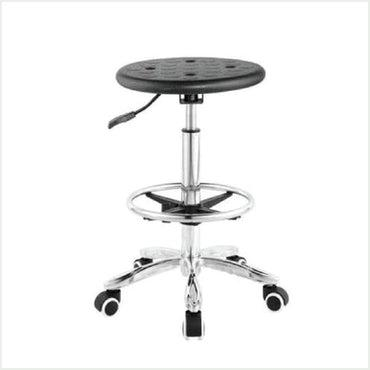stool: (93, 55, 289, 339)
